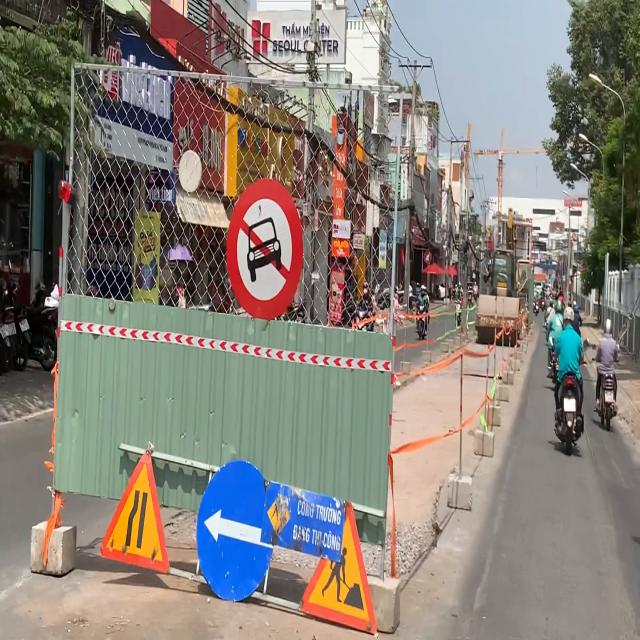Cam con lai: (225, 178, 304, 322)
Nguy hiem: (297, 499, 379, 640), (98, 448, 171, 577)
Re trai: (195, 459, 275, 605)
